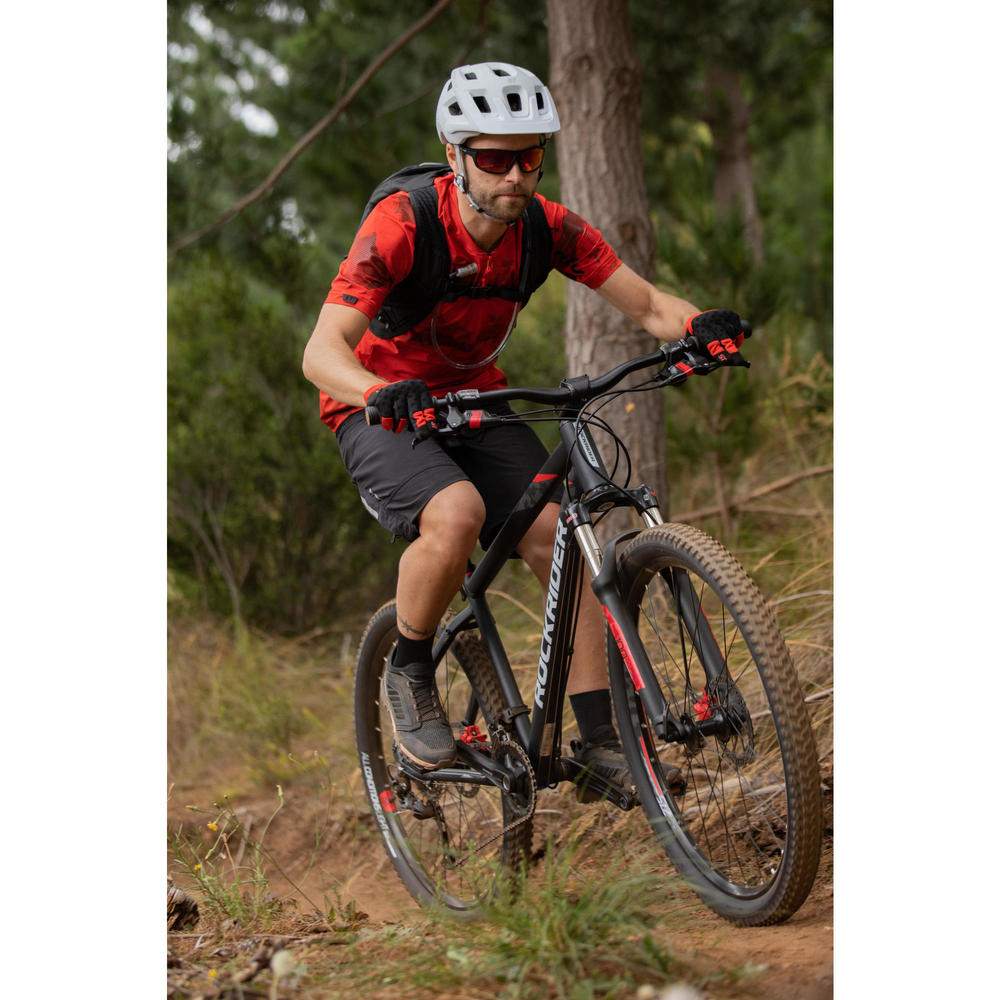MountainBike: (349, 307, 810, 931)
